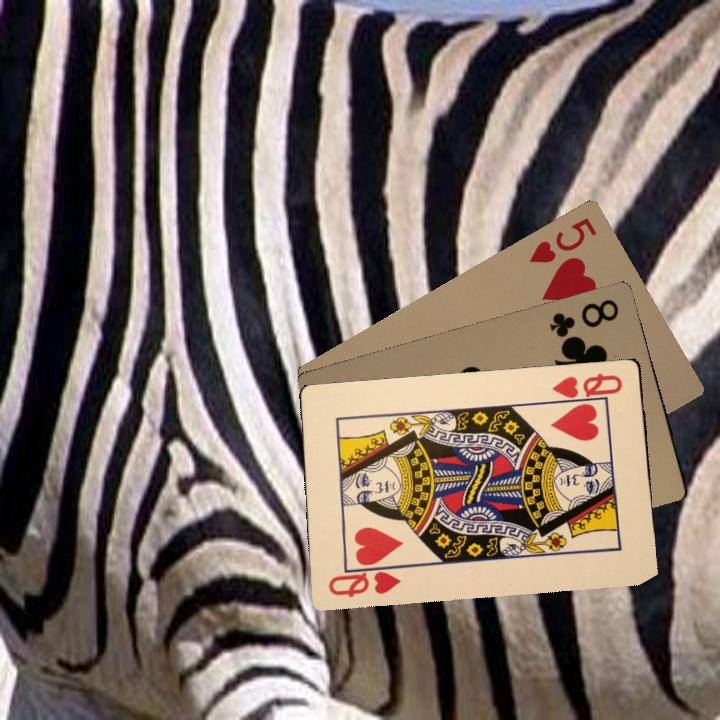5h: (525, 213, 599, 266)
8c: (545, 295, 621, 342)
Qh: (324, 561, 403, 600), (548, 369, 625, 407)
